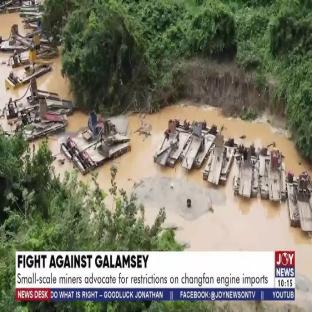ProcessingEquipment: (67, 107, 133, 172), (149, 103, 212, 167), (256, 142, 286, 207), (204, 135, 236, 186), (288, 171, 312, 231), (238, 147, 258, 203), (2, 74, 41, 87), (40, 63, 43, 74)
